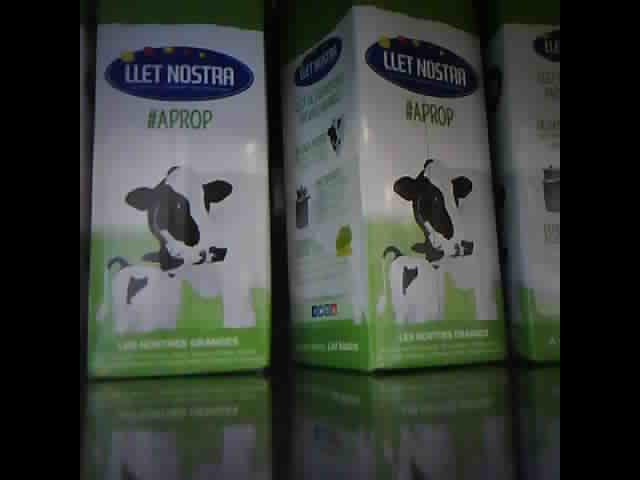leche: (289, 12, 500, 373), (86, 7, 269, 381), (501, 9, 558, 358)
